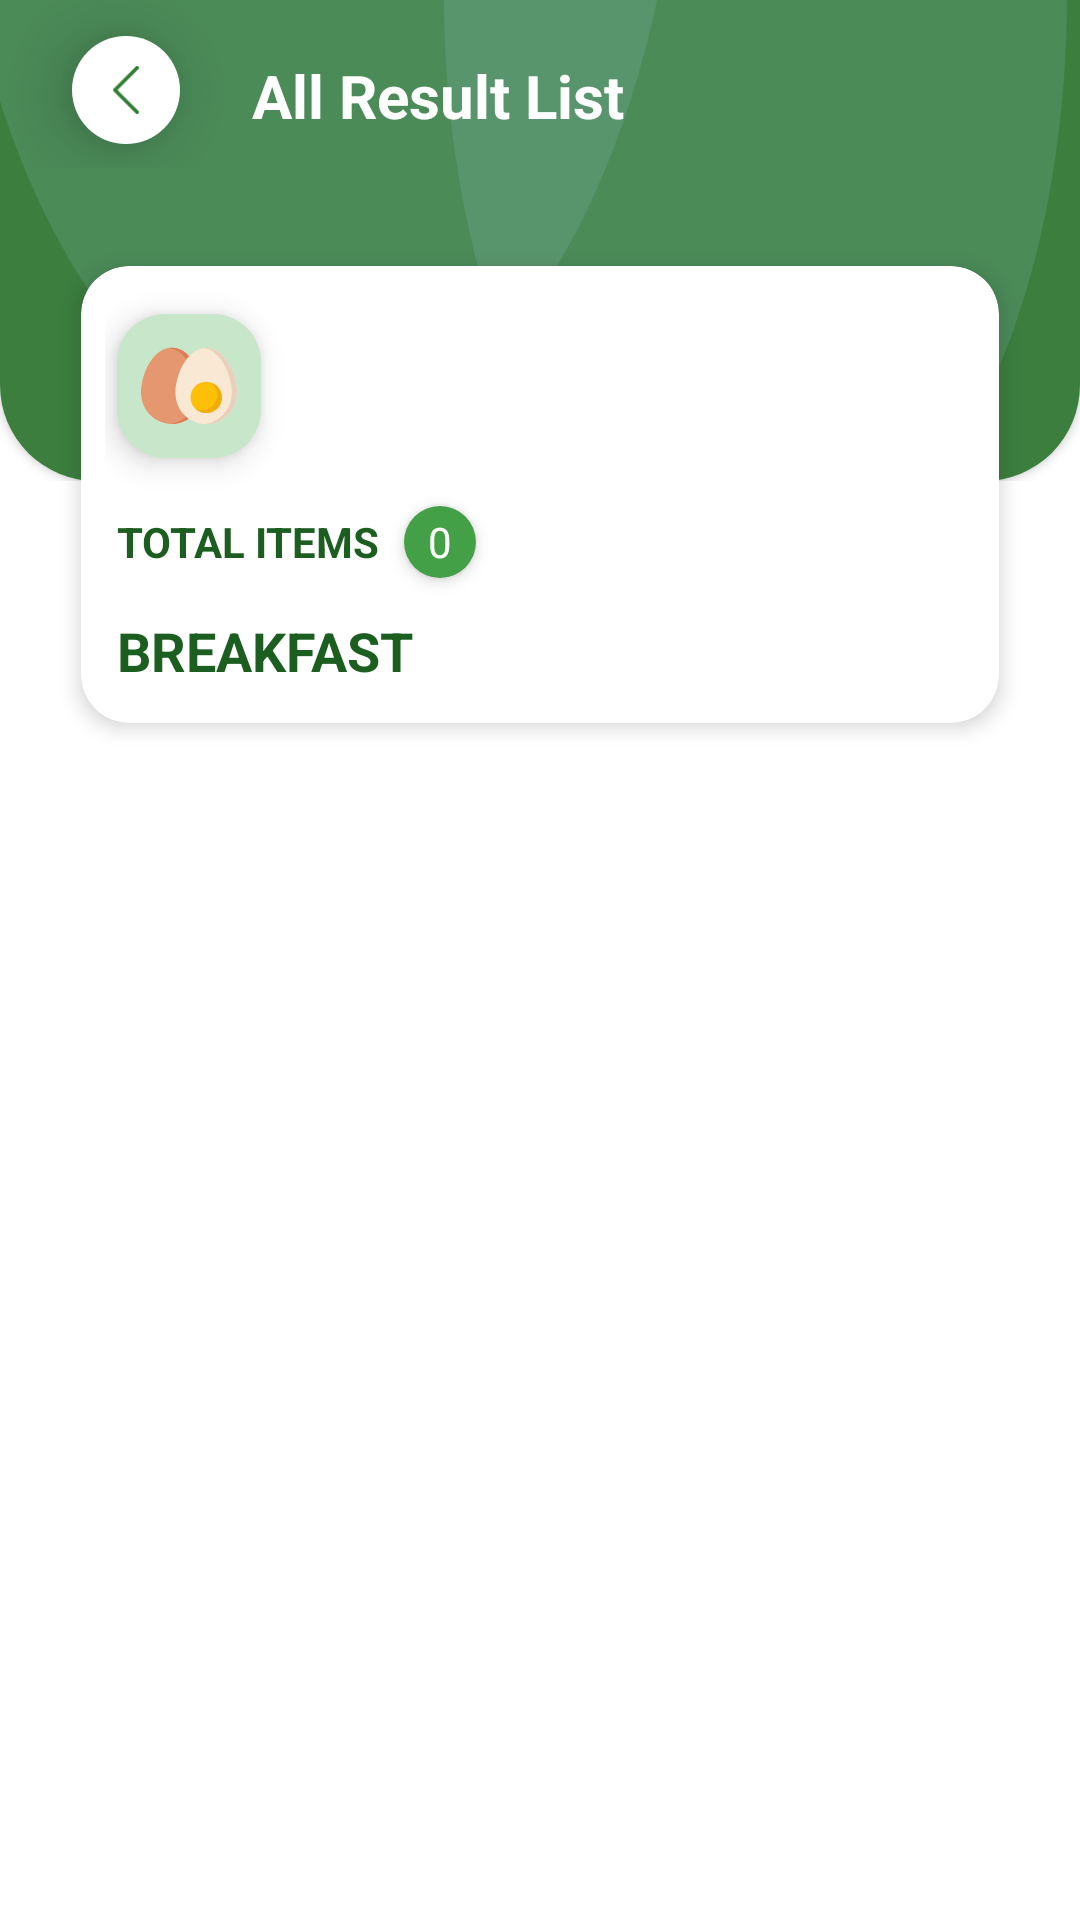

Icon click points for this 1080w x 1920h phone screenshot, format point (x, y):
egg: point (189, 386)
left arrow: point (126, 90)
